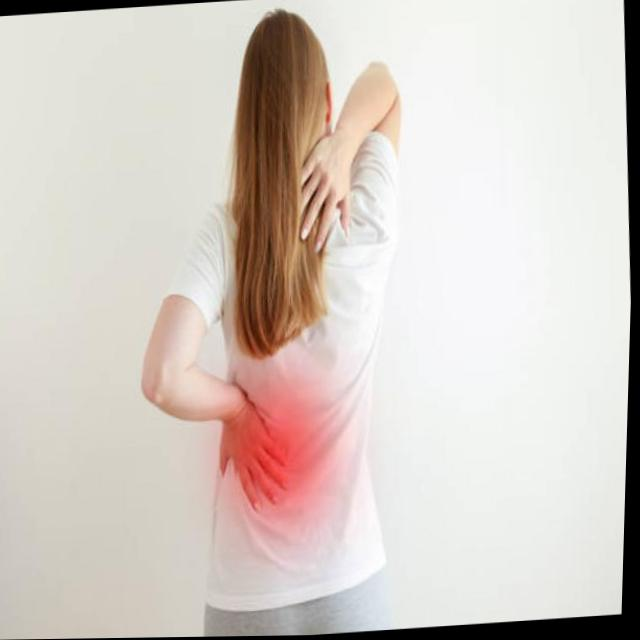no helmet: (217, 6, 342, 176)
